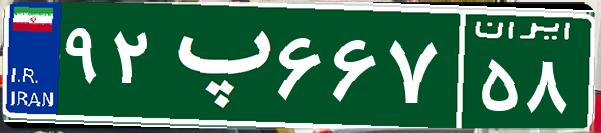2: (110, 28, 158, 105)
5: (475, 38, 525, 113)
6: (273, 28, 330, 110), (330, 28, 385, 110)
7: (385, 28, 445, 110)
8: (525, 38, 570, 115)
9: (57, 26, 110, 107)
پ: (158, 15, 273, 115)
